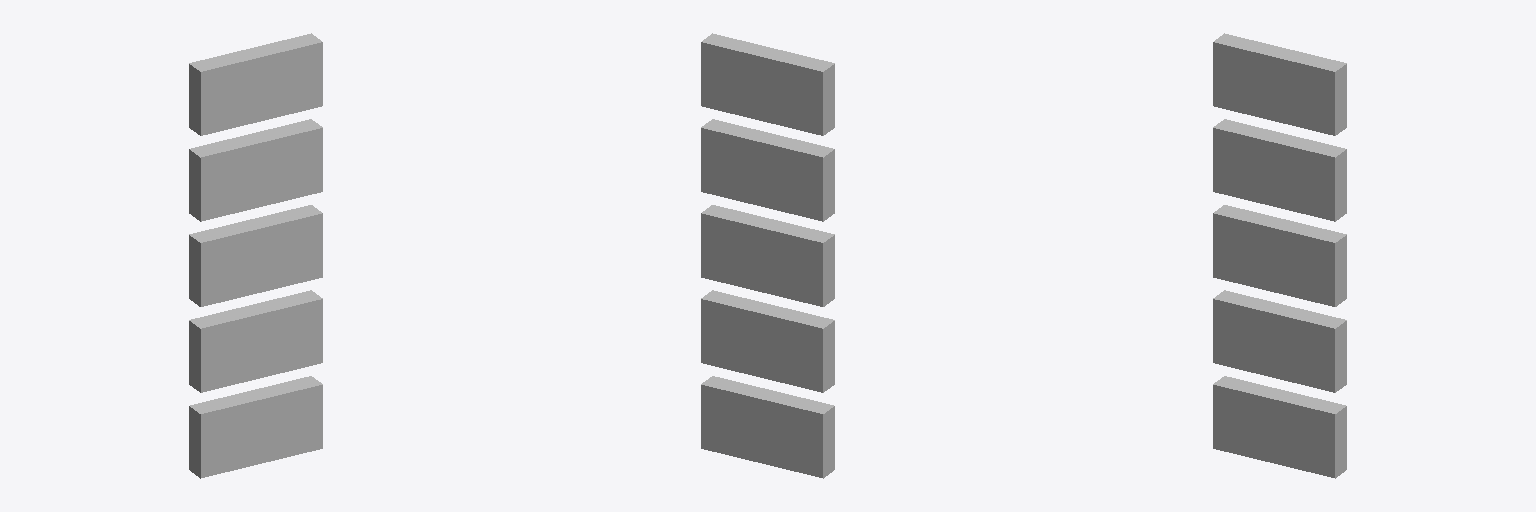
The model's file is ladder.obj.
3 renders of one model, left to right at view 1: azimuth 30°, elevation 25°; view 2: azimuth 150°, elevation 25°; view 3: azimuth 330°, elevation 25°, orthographic.
Parts seen in each view (by area): view 1: Mesh1; view 2: Mesh1; view 3: Mesh1.
Part boxes in pixels (bbox=[...]): Mesh1: bbox=[189, 33, 322, 478]; Mesh1: bbox=[701, 33, 834, 478]; Mesh1: bbox=[1213, 33, 1346, 478].
Size of the model in its own units: 3 by 9.5 by 0.5.